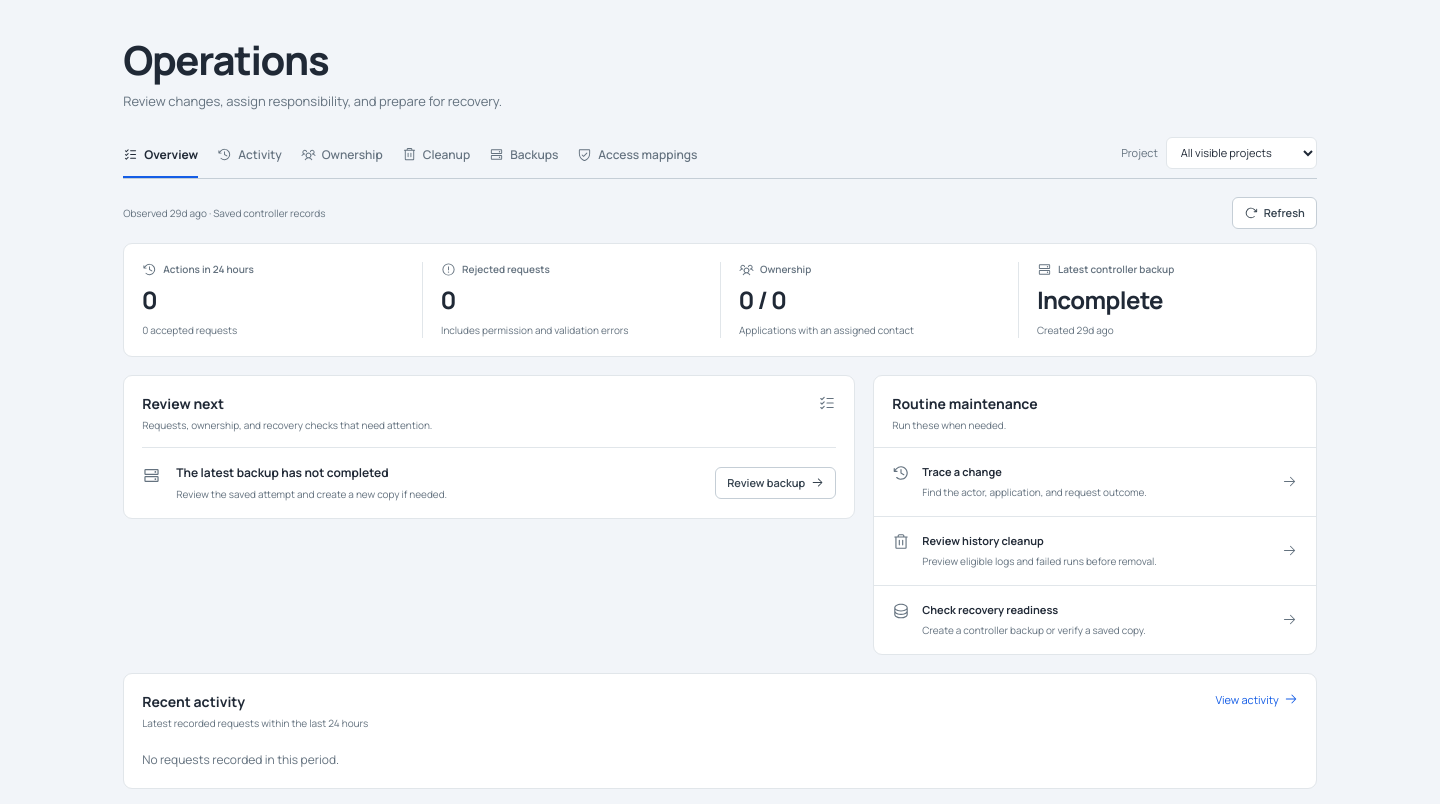
flags incomplete backup records and never infers verification from a stale timestamp
Expected: the heading "The latest backup has not completed" is shown, [176,464,389,481]
Click the button "Refresh" at (1274, 213), box [1232,197,1317,229]
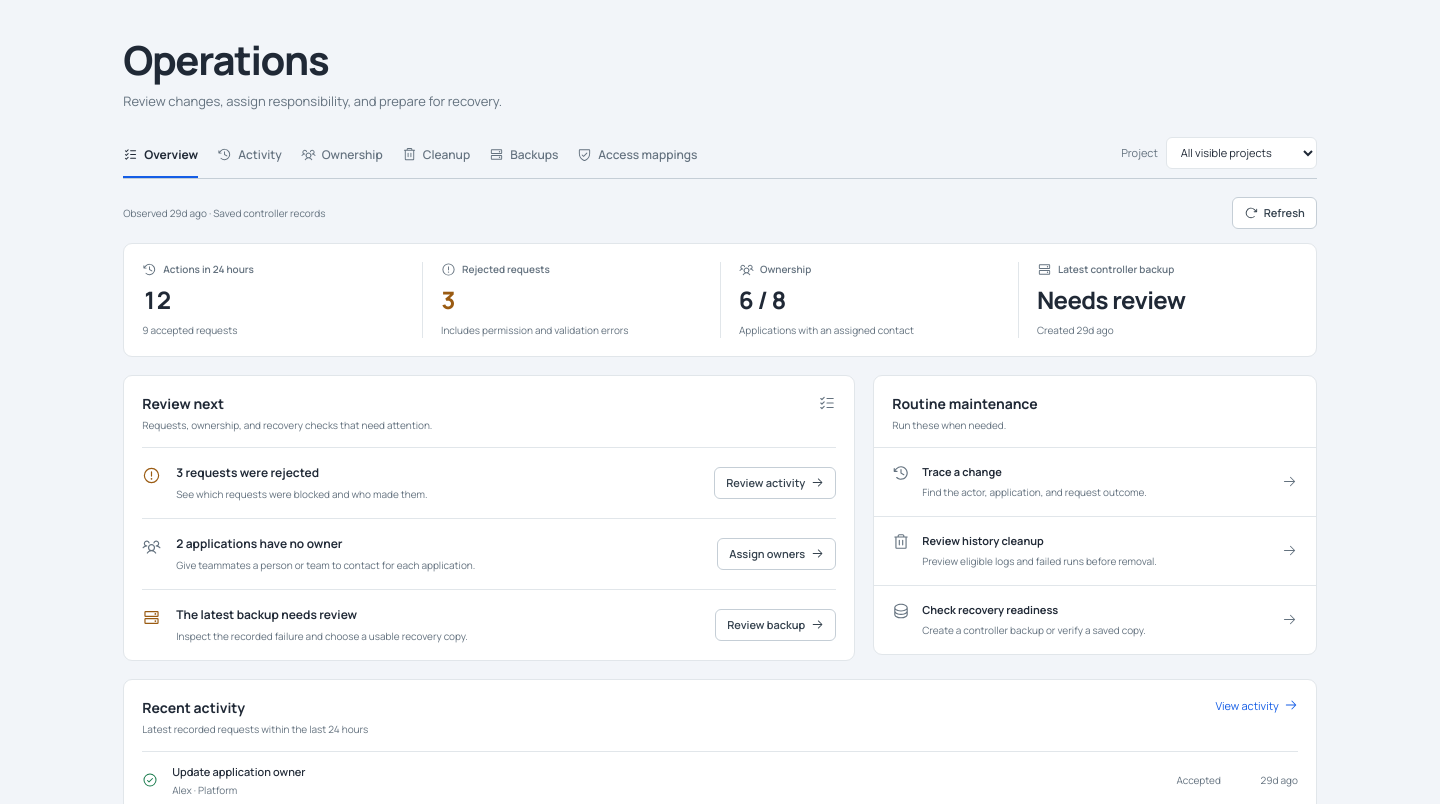
Now the heading "The latest backup needs review" is shown, box [176,606,357,623]
